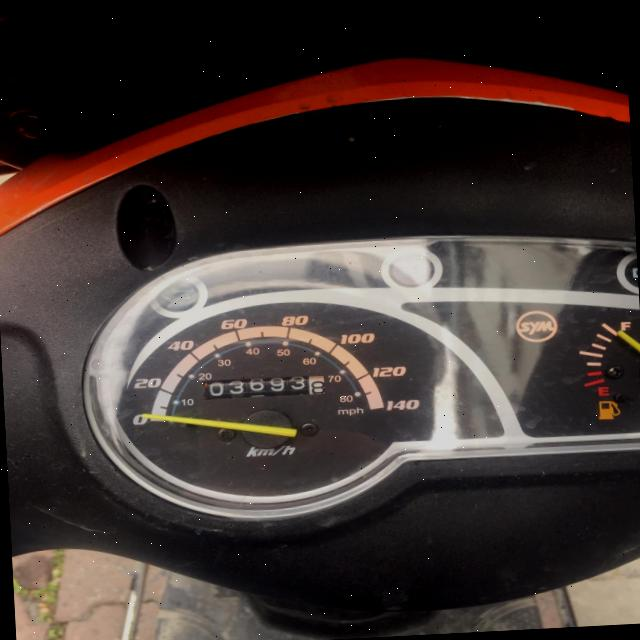odometer: (198, 372, 326, 401)
